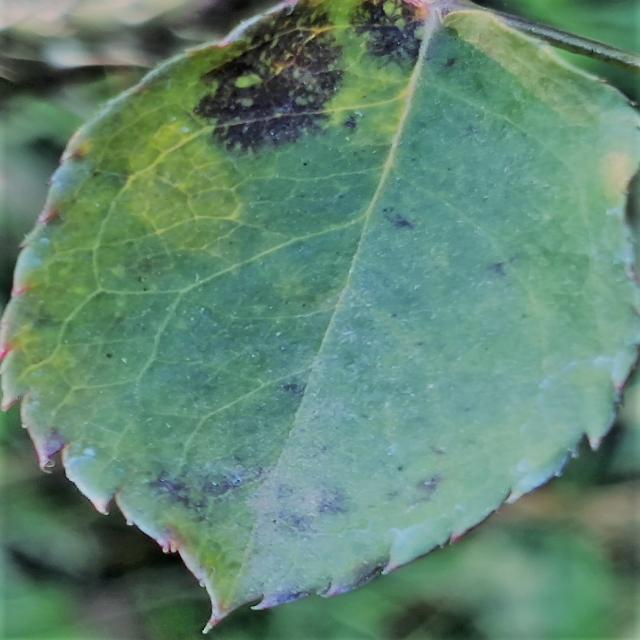Rose: (0, 0, 639, 633)
